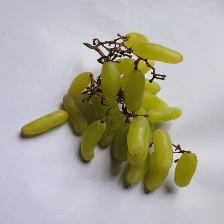grapes: (6, 30, 197, 194)
